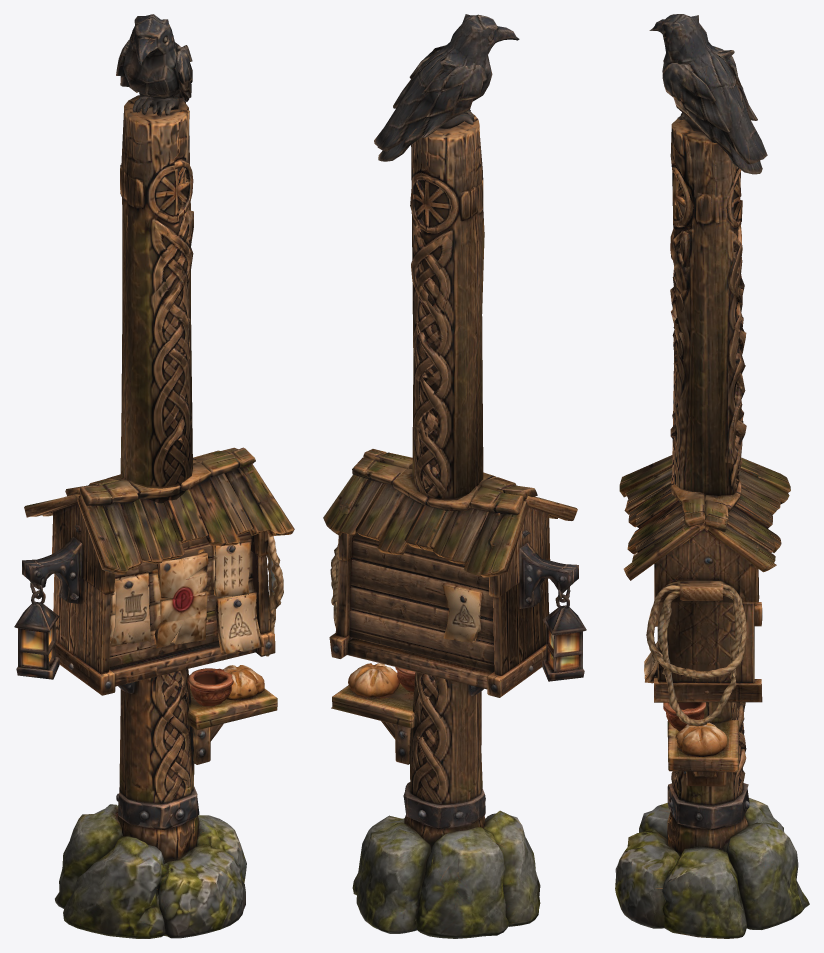
File: HeartShrine.fbx
The picture shows the model from 3 angles, left to right: view 1: azimuth 30°, elevation 25°; view 2: azimuth 150°, elevation 25°; view 3: azimuth 270°, elevation 25°; orthographic projection. The views are drawn at different scales.
Visible parts, largest first — view 1: Mesh_0; view 2: Mesh_0; view 3: Mesh_0.
Boxes of the visible parts, x1,y1,x2,y2 form: Mesh_0: (14, 14, 294, 938); Mesh_0: (323, 14, 586, 938); Mesh_0: (615, 14, 809, 938).
Size of the model in its own units: 27.88 by 95.17 by 19.14.
Materials: 1 (1 with a texture image).
